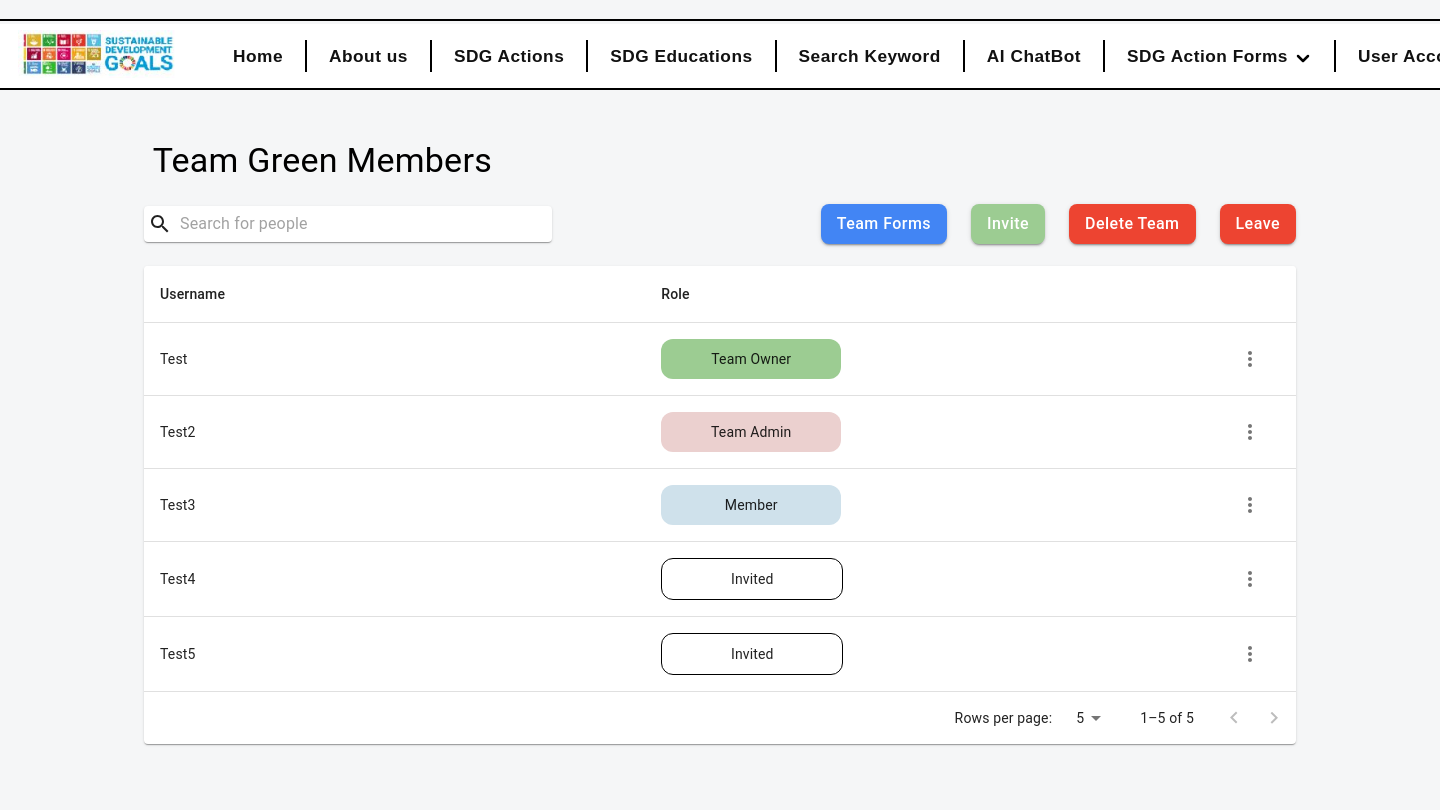
Test: Team › should not be able to leave as owner
Click the button "Leave" at (1258, 224), box x1=1220 y1=204 x2=1296 y2=244
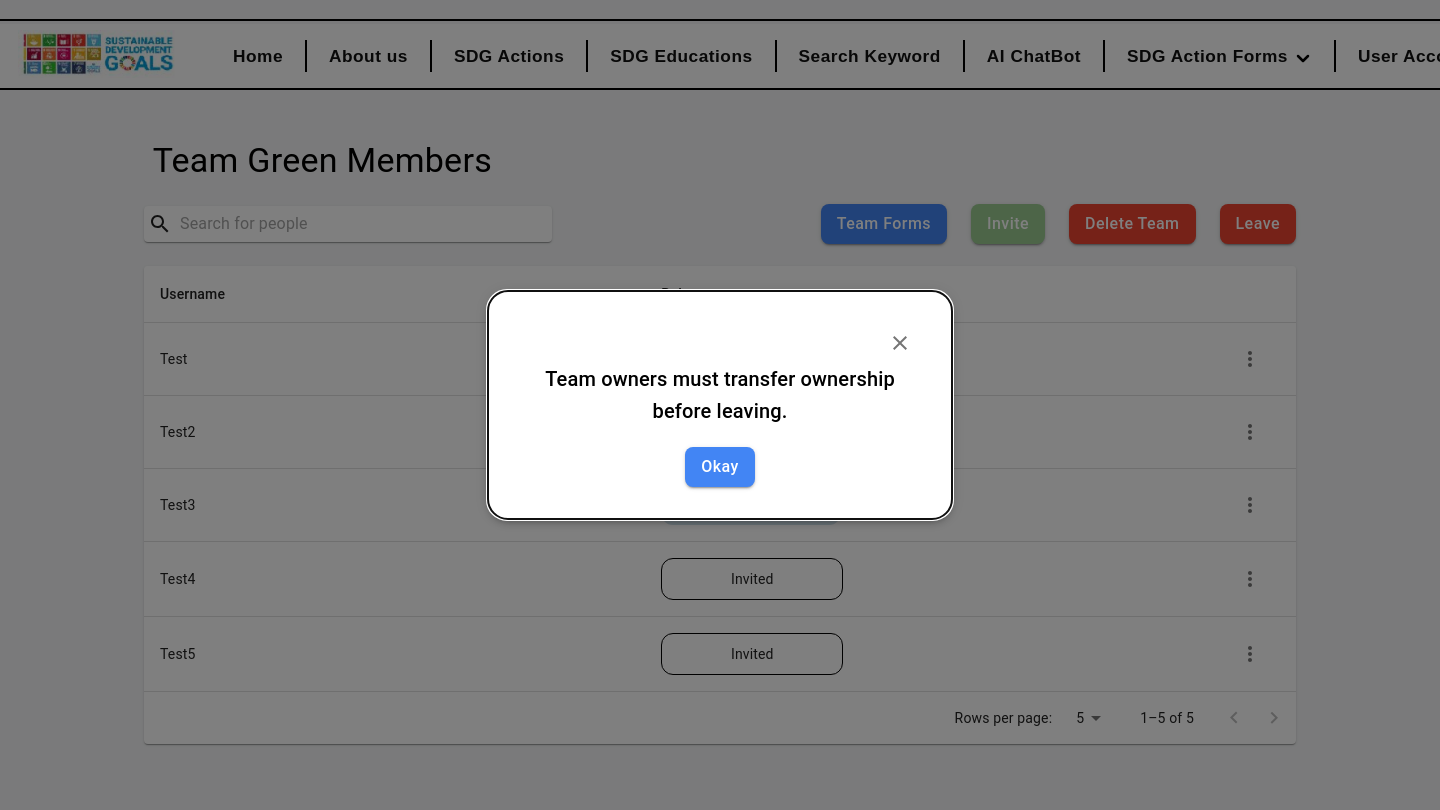
expect the heading "Team owners must transfer ownership before leaving." is shown: met, box x1=520 y1=363 x2=920 y2=427
